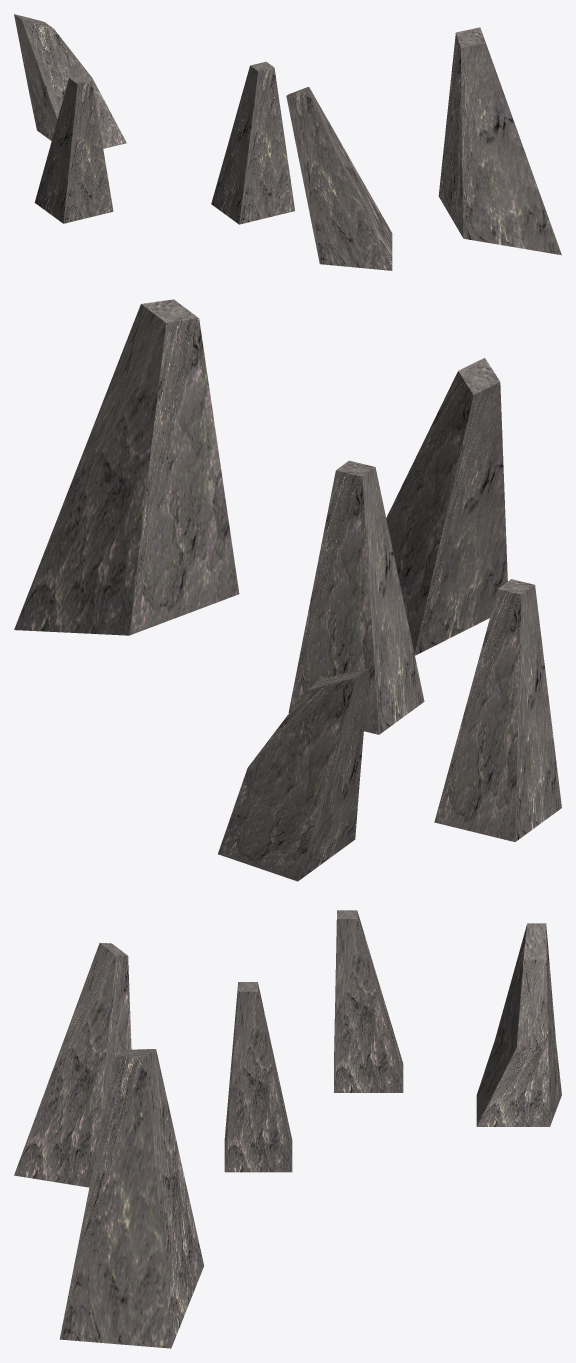
Rendered from RocksGrp.fbx.
3 renders of one model, top to bottom at view 1: azimuth 30°, elevation 25°; view 2: azimuth 150°, elevation 25°; view 3: azimuth 270°, elevation 25°, orthographic. The views are drawn at different scales.
Visible parts, largest first — view 1: pCube11, pCube10, pCube9, pCube4, pCube3; view 2: pCube11, pCube10, pCube4, pCube9, pCube3; view 3: pCube11, pCube10, pCube3, pCube9, pCube4.
Part boxes in pixels (x1,y1,x2,y2): pCube11: (438,27,561,255); pCube10: (286,86,392,270); pCube9: (211,61,294,224); pCube4: (34,74,113,223); pCube3: (14,14,126,148); pCube11: (14,299,239,635); pCube10: (386,358,507,655); pCube4: (434,579,561,841); pCube9: (288,460,424,734); pCube3: (218,668,368,881); pCube11: (59,1049,203,1348); pCube10: (14,942,131,1187); pCube3: (476,923,561,1126); pCube9: (224,982,292,1172); pCube4: (334,910,403,1092).
Size of the model in its own units: 668 by 335 by 649.
